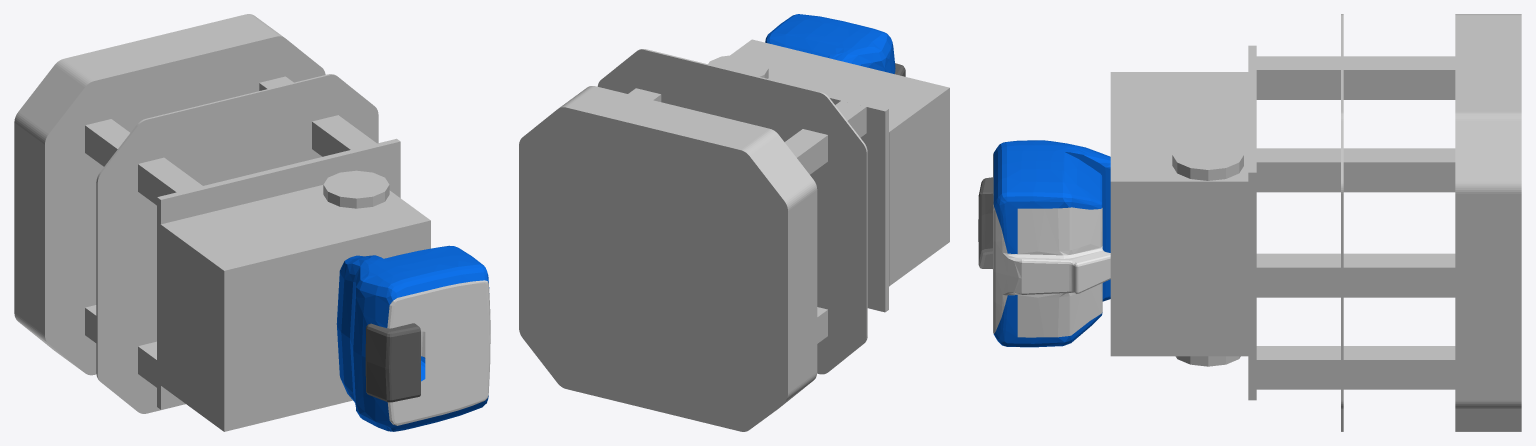
Rendered from BODY_mesh.dae.
The picture shows the model from 3 angles, left to right: view 1: azimuth 30°, elevation 25°; view 2: azimuth 150°, elevation 25°; view 3: azimuth 270°, elevation 25°; orthographic projection. The views are drawn at different scales.
Visible parts, largest first — view 1: BODY (×4); view 2: BODY (×2); view 3: BODY (×4).
Boxes of the visible parts, box(x1,y1,x2,y2) form: BODY (×4): box(14, 14, 490, 431); BODY (×2): box(519, 14, 949, 431); BODY (×4): box(978, 14, 1521, 431).
Size of the model in its own units: 0.6386 by 0.6386 by 0.9863.
